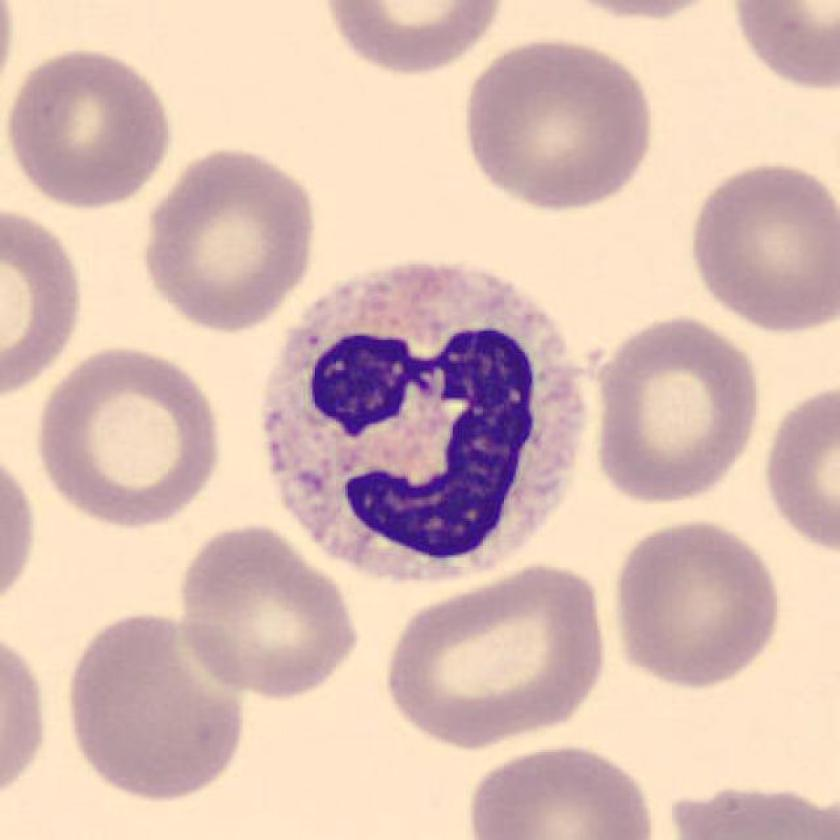neutrophil: (261, 263, 588, 583)
